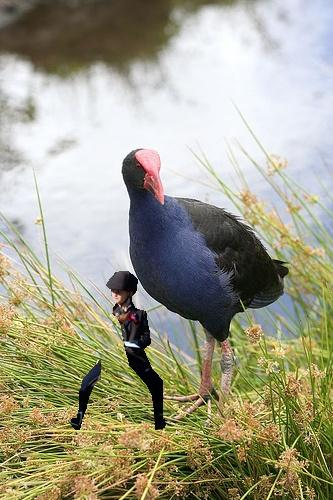tampered: (71, 272, 165, 430)
